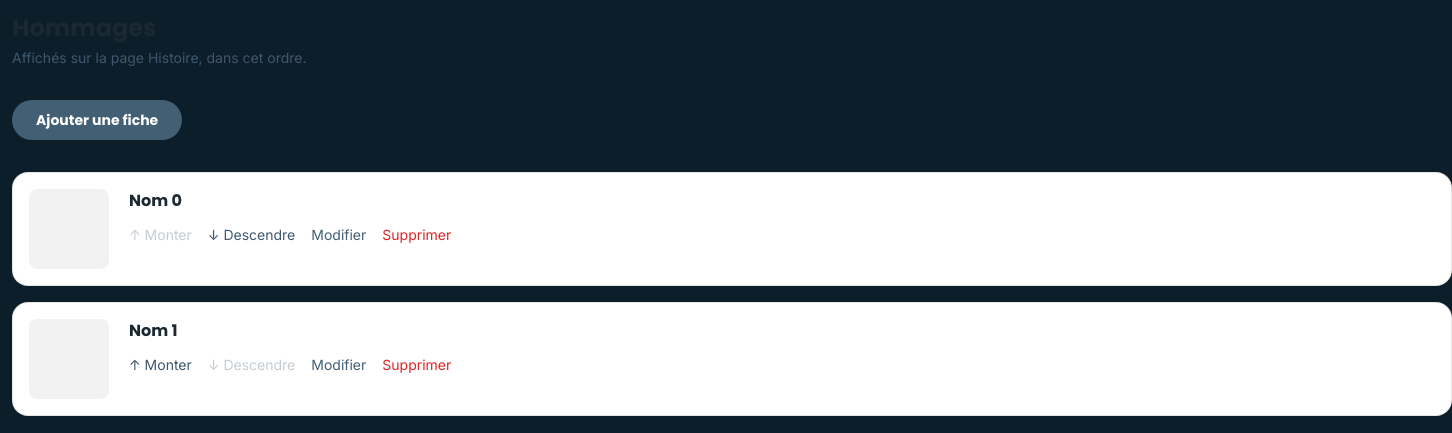
Scenario: monte une fiche d’un cran
This screenshot has width=1452, height=433.
Click the button "↑ Monter" below "Nom 1" at (160, 365), box [129,355,192,375]
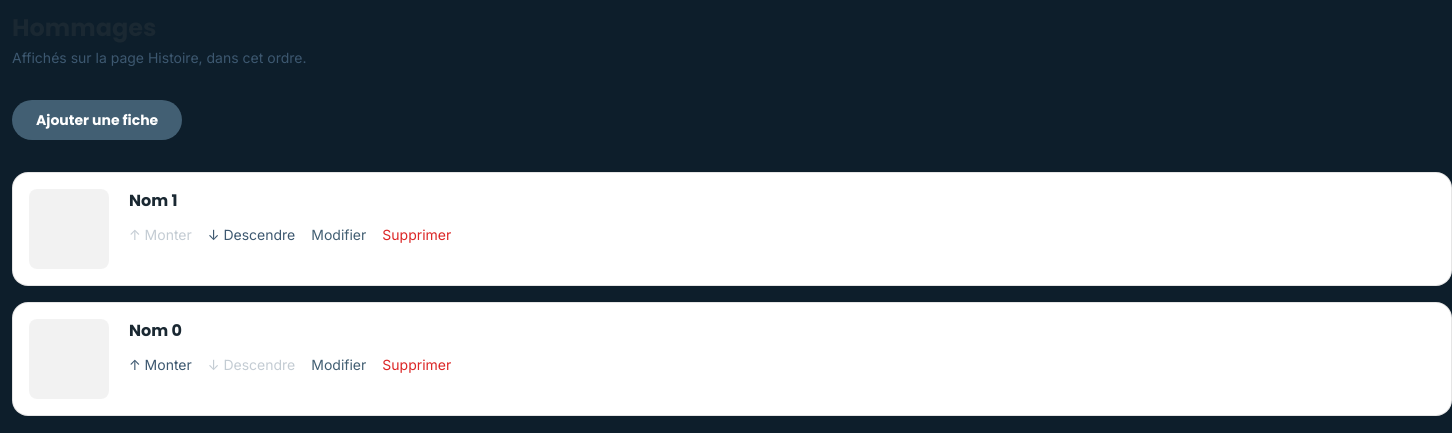
Expected: the button "↑ Monter" below "Nom 1" is disabled, [129,225,192,245]
Expected: the elements with test id "fiche-nom" read "Nom 1", "Nom 0", in this order, [129,189,178,212]; [129,319,182,342]
